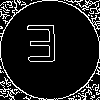E: (25, 25, 59, 71)
